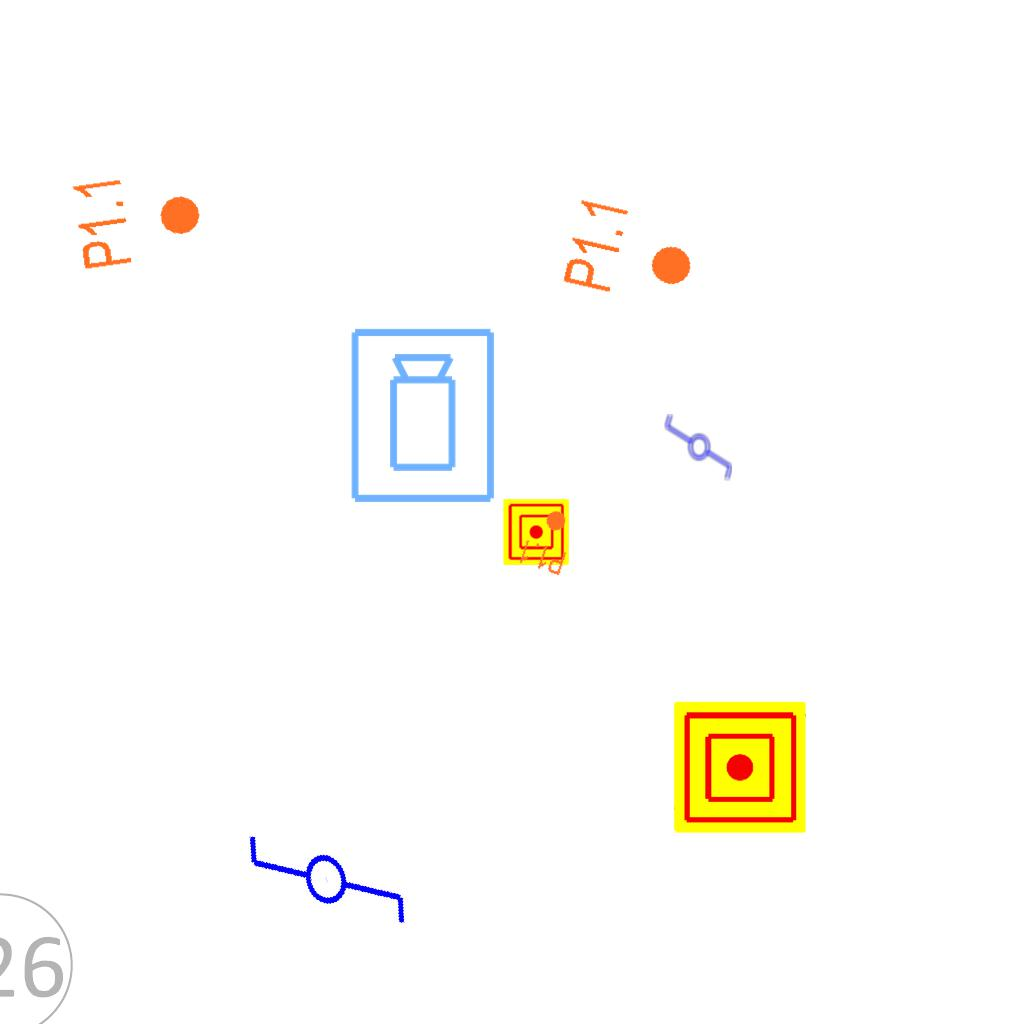Downlight_LED_Einbauleuchten_Flur: (558, 193, 705, 313), (68, 163, 209, 273), (516, 502, 580, 578)
KFO_Kamera_mit_Festobjektiv: (347, 325, 501, 507)
NAM-Nichtautomatischer_Melder: (674, 701, 806, 833), (503, 499, 569, 565)
Wechselschalter: (231, 773, 420, 969), (662, 412, 734, 490)
